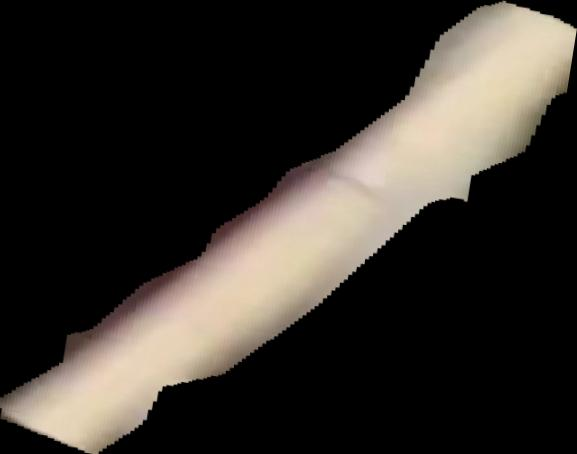backward: (1, 1, 577, 454)
